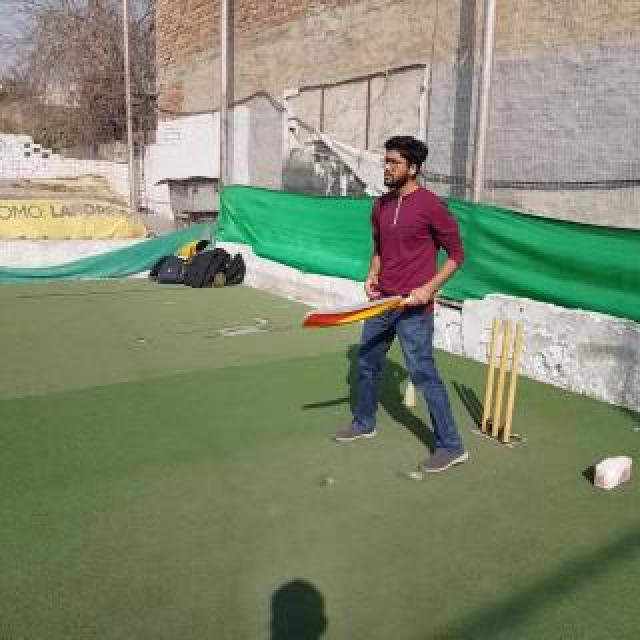bat: (300, 290, 444, 332)
